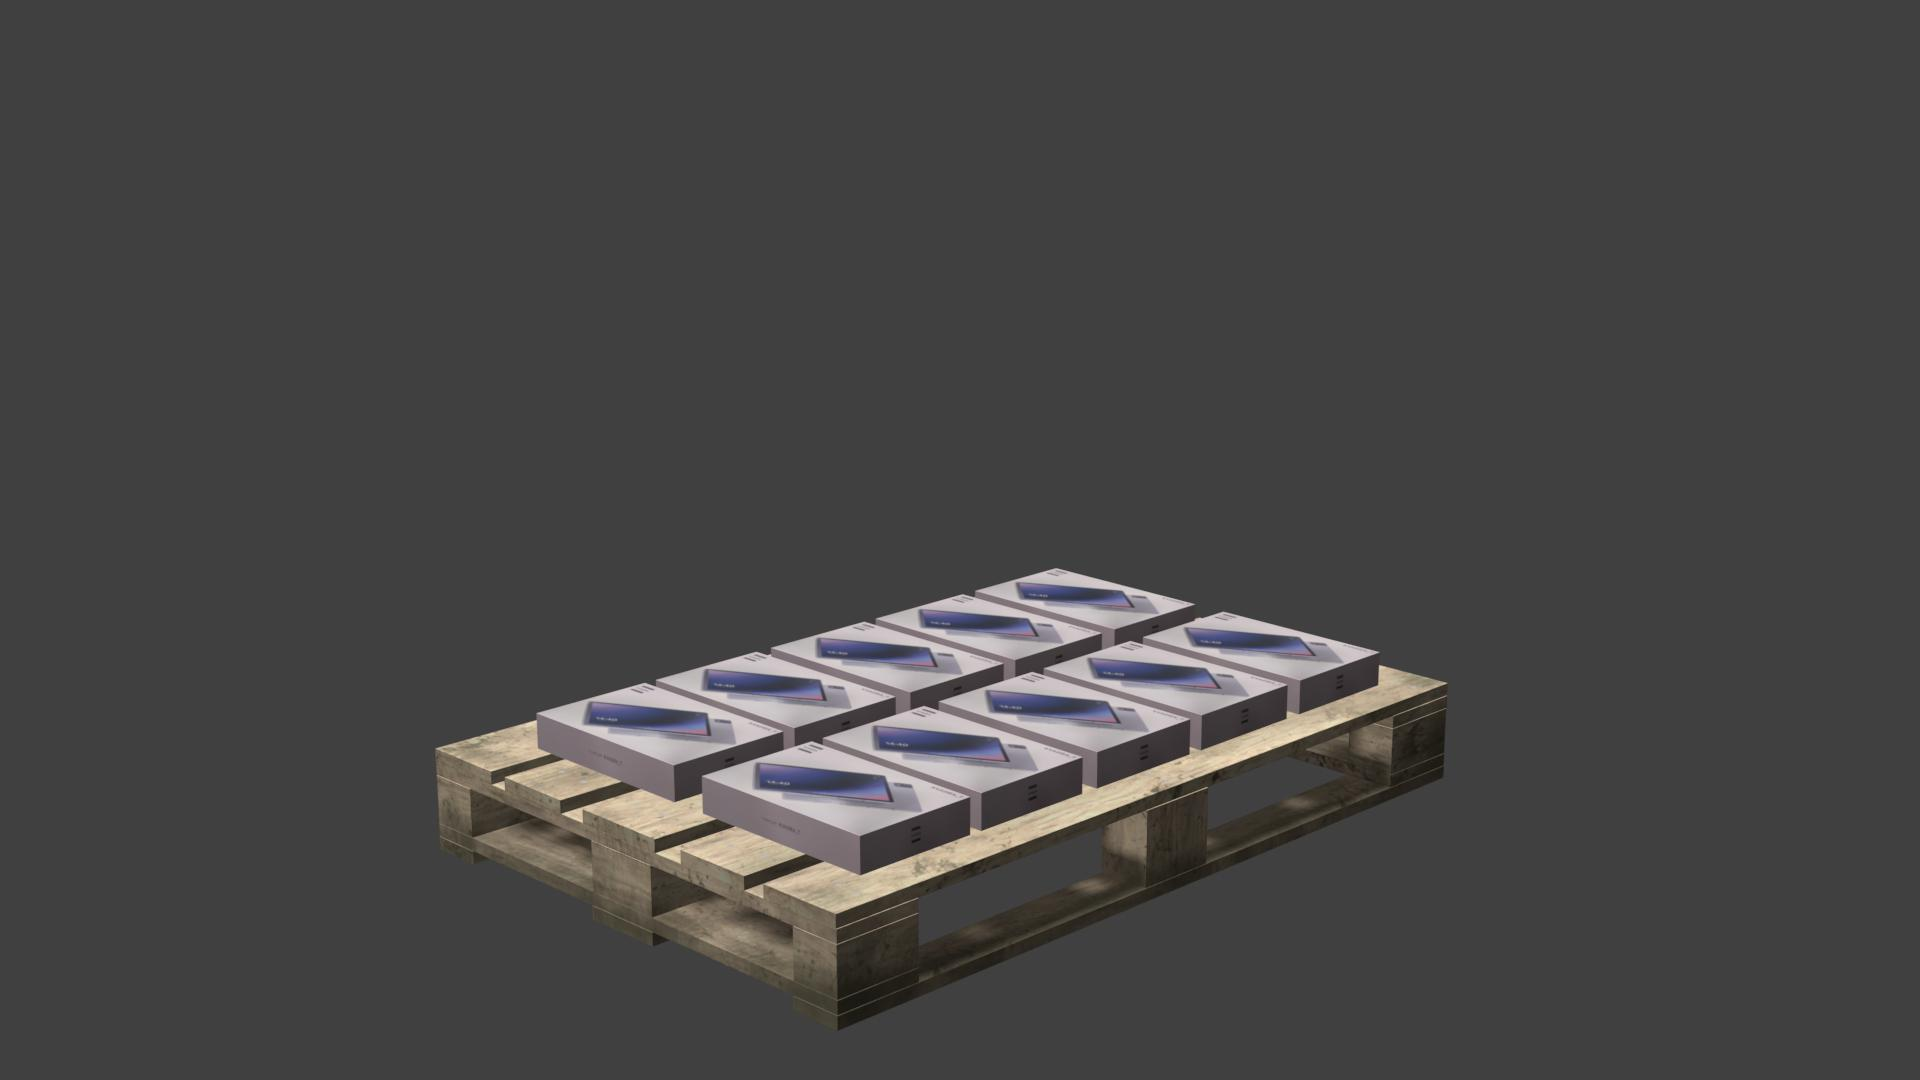palet: (434, 663, 1448, 1034)
tablet_left: (704, 777, 971, 876), (538, 715, 785, 802), (1084, 720, 1191, 789), (981, 758, 1081, 831), (1191, 687, 1287, 748), (1288, 654, 1379, 713), (795, 698, 897, 746), (910, 666, 1004, 709), (1015, 634, 1101, 676), (1114, 607, 1195, 645)
tablet_top: (703, 741, 969, 836), (823, 707, 1081, 793), (939, 671, 1188, 752), (539, 682, 779, 765), (1044, 640, 1287, 715), (658, 651, 894, 728), (773, 622, 1002, 692), (1146, 612, 1379, 680), (877, 593, 1101, 661), (976, 568, 1195, 629)
